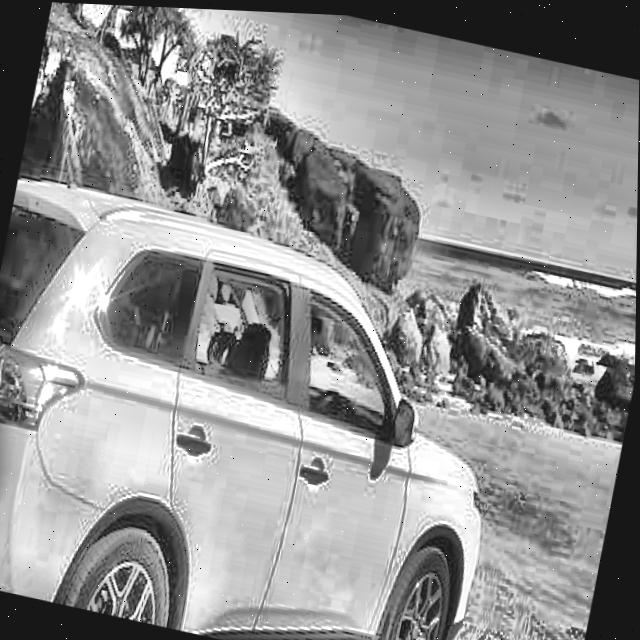light_vehicle: (0, 168, 534, 640)
